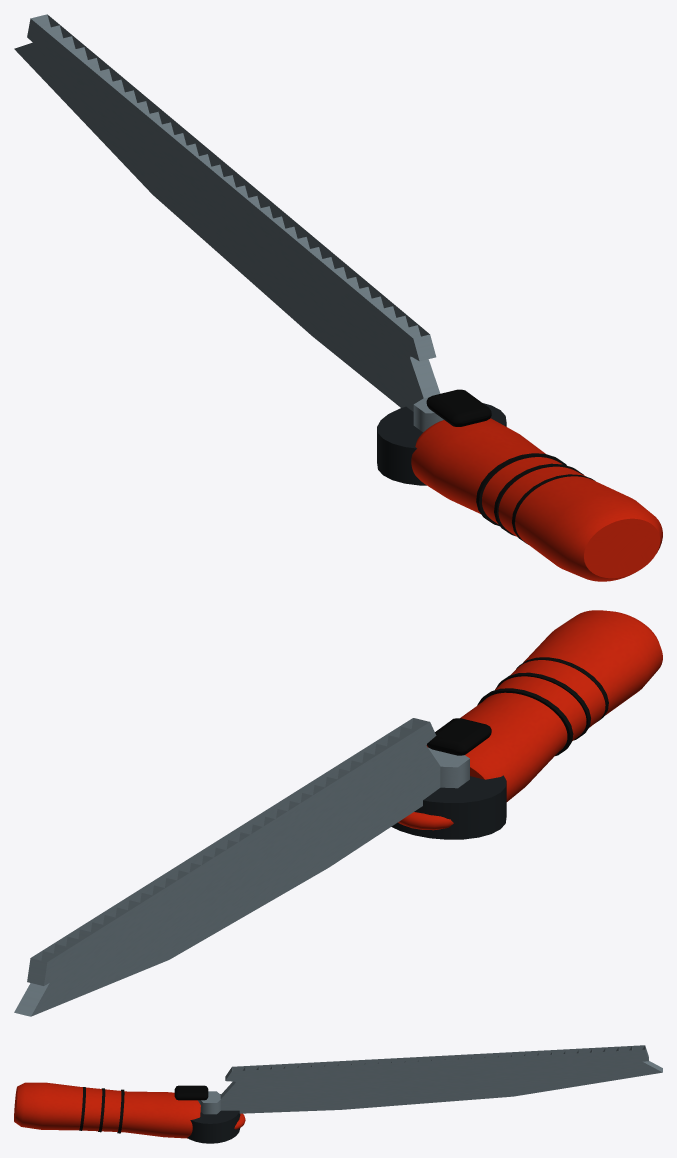
Rendered from PruningSaw.gltf.
3 renders of one model, top to bottom at view 1: azimuth 30°, elevation 25°; view 2: azimuth 150°, elevation 25°; view 3: azimuth 270°, elevation 25°, orthographic. The views are drawn at different scales.
Parts seen in each view (by area): view 1: PruningSaw__Body; view 2: PruningSaw__Body; view 3: PruningSaw__Body.
Boxes of the visible parts, x1,y1,x2,y2 form: PruningSaw__Body: (14, 14, 662, 581); PruningSaw__Body: (14, 610, 662, 1016); PruningSaw__Body: (14, 1045, 662, 1143).
Bounding box in the file's own units: 0.0574 × 0.0756 × 0.5091.
Materials: 1 (1 with a texture image).
